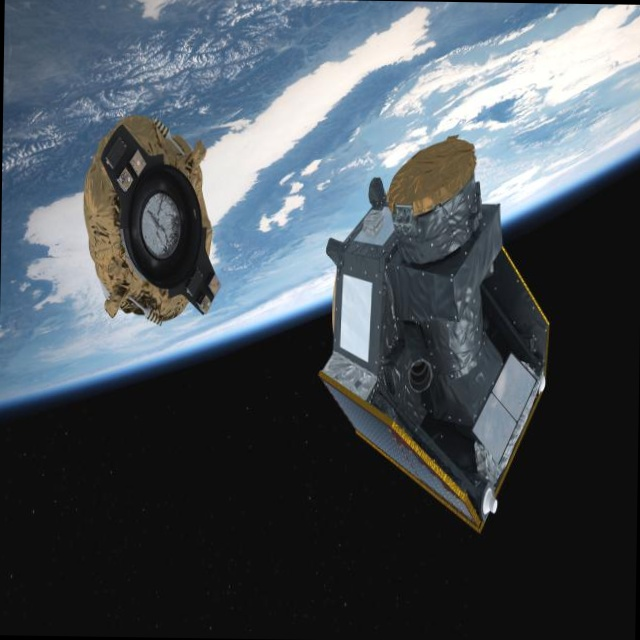medium_debris: (302, 122, 565, 543), (72, 92, 234, 341)
